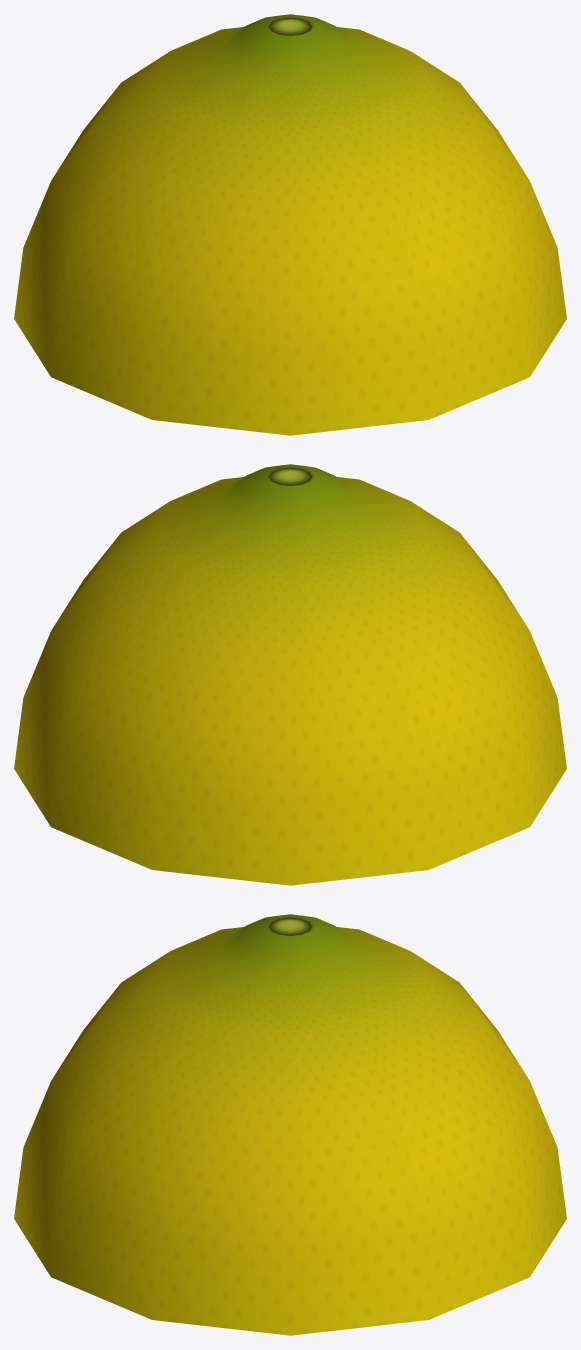
The model's file is Lemon_Half_Top.fbx.
The picture shows the model from 3 angles, top to bottom: view 1: azimuth 30°, elevation 25°; view 2: azimuth 150°, elevation 25°; view 3: azimuth 270°, elevation 25°; orthographic projection.
Visible parts, largest first — view 1: Lemon_Half_Top; view 2: Lemon_Half_Top; view 3: Lemon_Half_Top.
Part boxes in pixels (bbox=[...]): Lemon_Half_Top: bbox=[14, 14, 566, 435]; Lemon_Half_Top: bbox=[14, 464, 566, 885]; Lemon_Half_Top: bbox=[14, 914, 566, 1335].
Size of the model in its own units: 1.57 by 0.9274 by 1.57.
